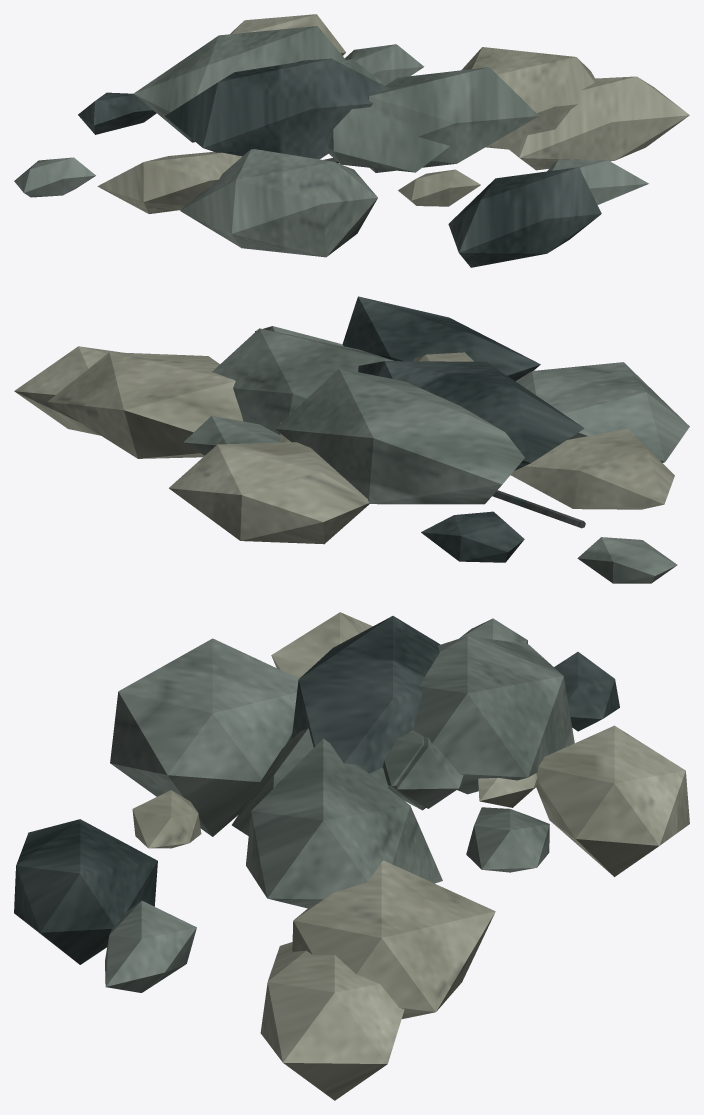
The model's file is 0107_scree_pile_07.glb.
3 views of the same model, one above another, from view 1: azimuth 30°, elevation 25°; view 2: azimuth 150°, elevation 25°; view 3: azimuth 270°, elevation 25° (orthographic). The views are drawn at different scales.
Parts seen in each view (by area): view 1: stone, stone_dark, stone_light; view 2: stone, stone_light, stone_dark, iron; view 3: stone, stone_light, stone_dark.
Boxes of the visible parts, x1,y1,x2,y2 form: stone: (14, 26, 648, 257); stone_dark: (78, 58, 601, 267); stone_light: (97, 14, 689, 213); stone: (183, 326, 689, 583); stone_light: (14, 346, 674, 544); stone_dark: (342, 296, 584, 562); iron: (492, 490, 585, 528); stone: (105, 618, 574, 992); stone_light: (132, 612, 689, 1100); stone_dark: (14, 616, 619, 964).
Size of the model in its own units: 3.18 by 0.7861 by 2.22.
Materials: 4 (4 with a texture image).
